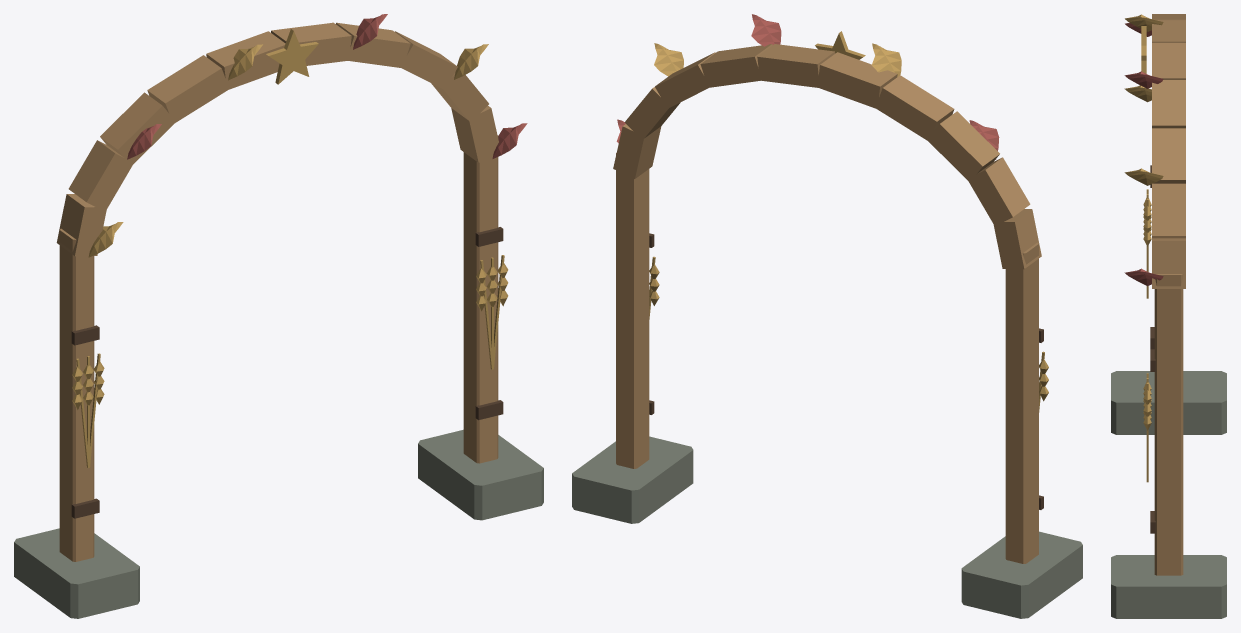
File: festival_arch_autumn.glb
The picture shows the model from 3 angles, left to right: view 1: azimuth 30°, elevation 25°; view 2: azimuth 150°, elevation 25°; view 3: azimuth 270°, elevation 25°; orthographic projection. The views are drawn at different scales.
Parts seen in each view (by area): view 1: geometry; view 2: geometry; view 3: geometry.
Boxes of the visible parts, bbox=[...] form: geometry: bbox=[14, 14, 543, 618]; geometry: bbox=[572, 14, 1082, 618]; geometry: bbox=[1111, 14, 1226, 618].
Size of the model in its own units: 2.86 by 3 by 0.65.
